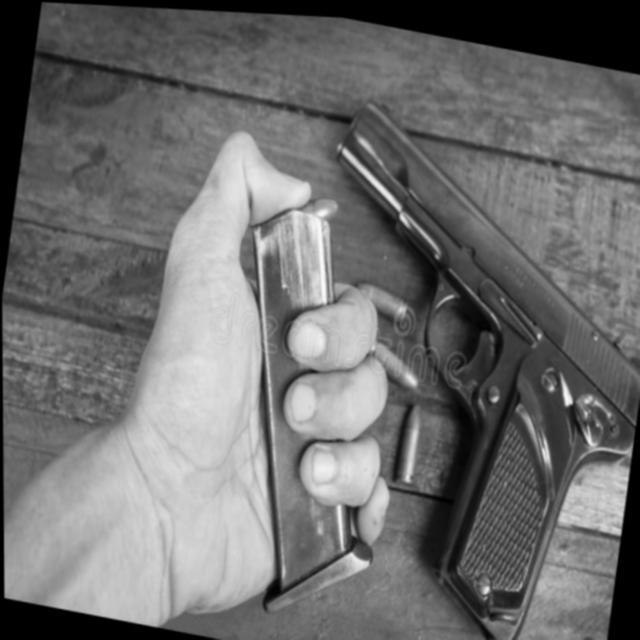weapon: (259, 65, 640, 640)
